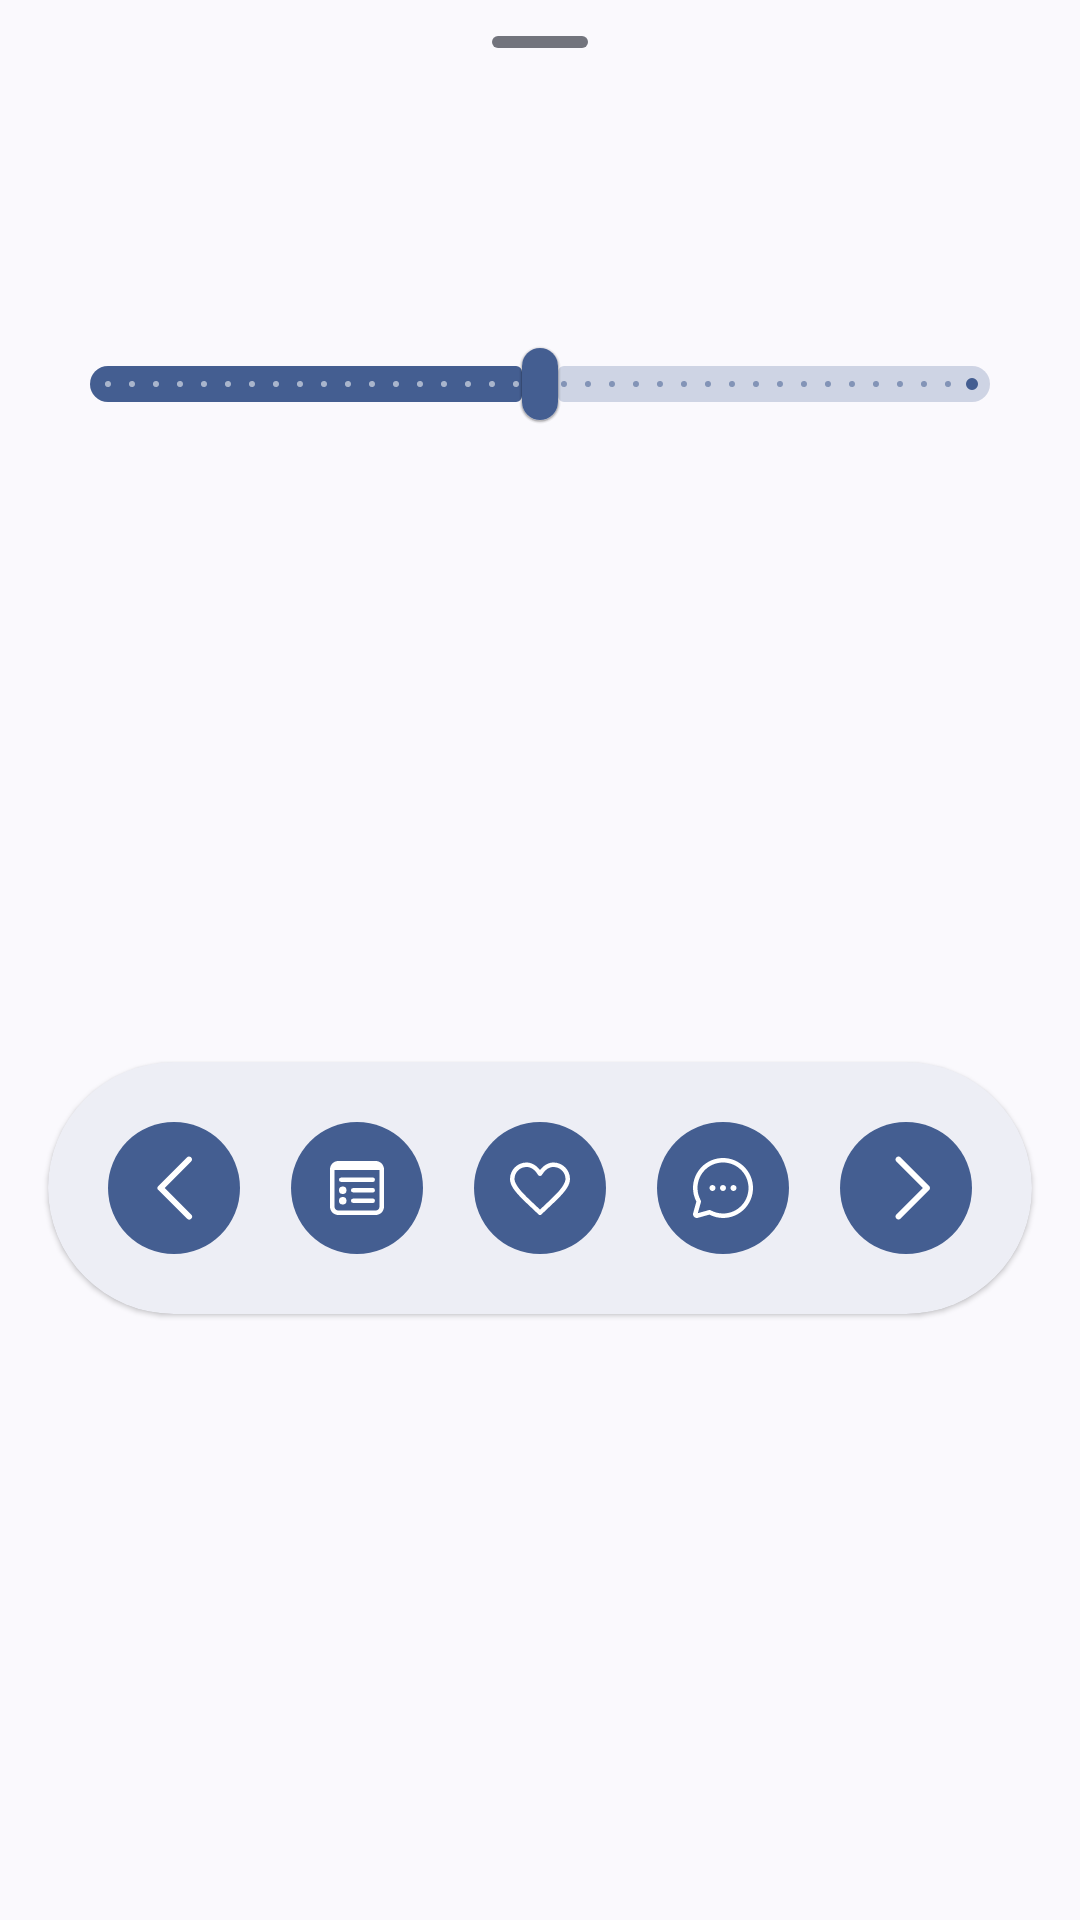

Screen size 1080px×1920px. Icon name, then its box in pixels as (x1, y1, x2, y2):
after: (840, 1122, 972, 1254)
before: (108, 1122, 240, 1254)
comment: (657, 1122, 789, 1254)
favorite: (474, 1122, 606, 1254)
list: (291, 1122, 423, 1254)
